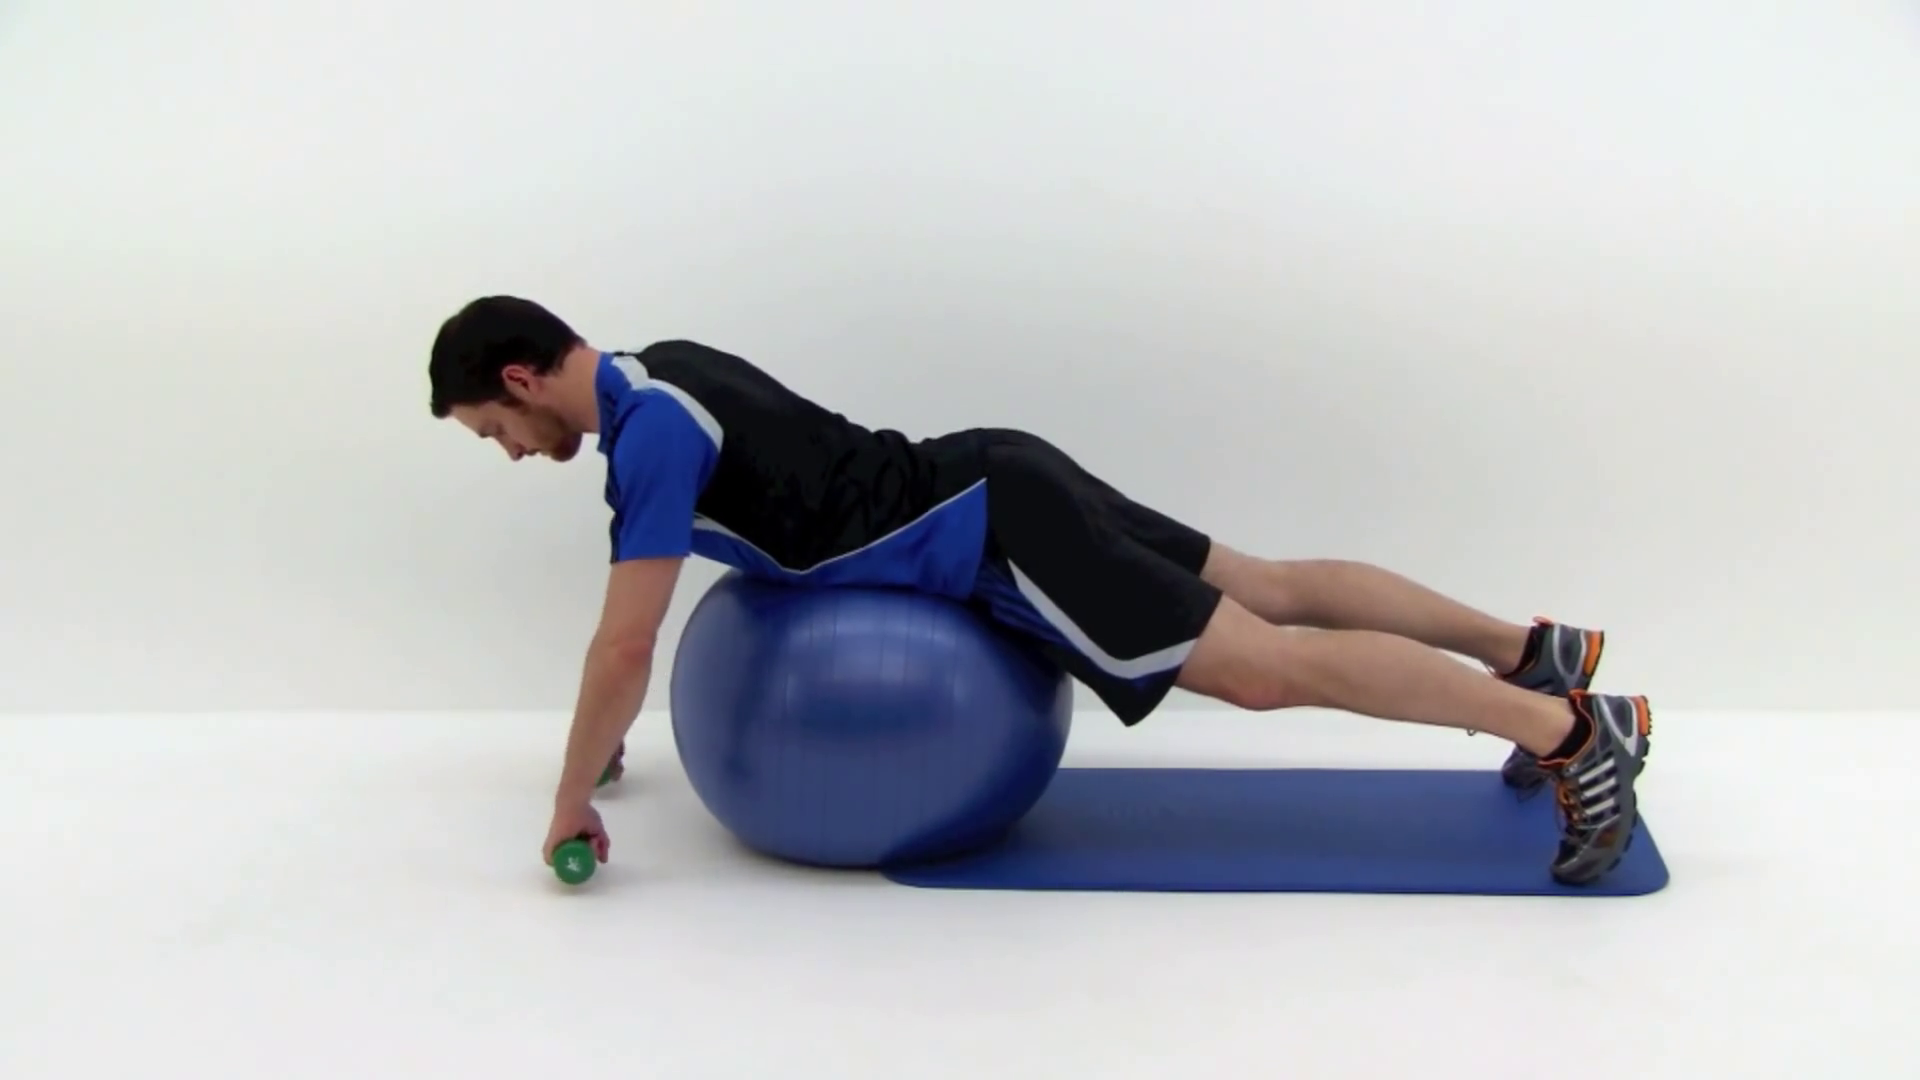yogaball: (673, 541, 1089, 878)
